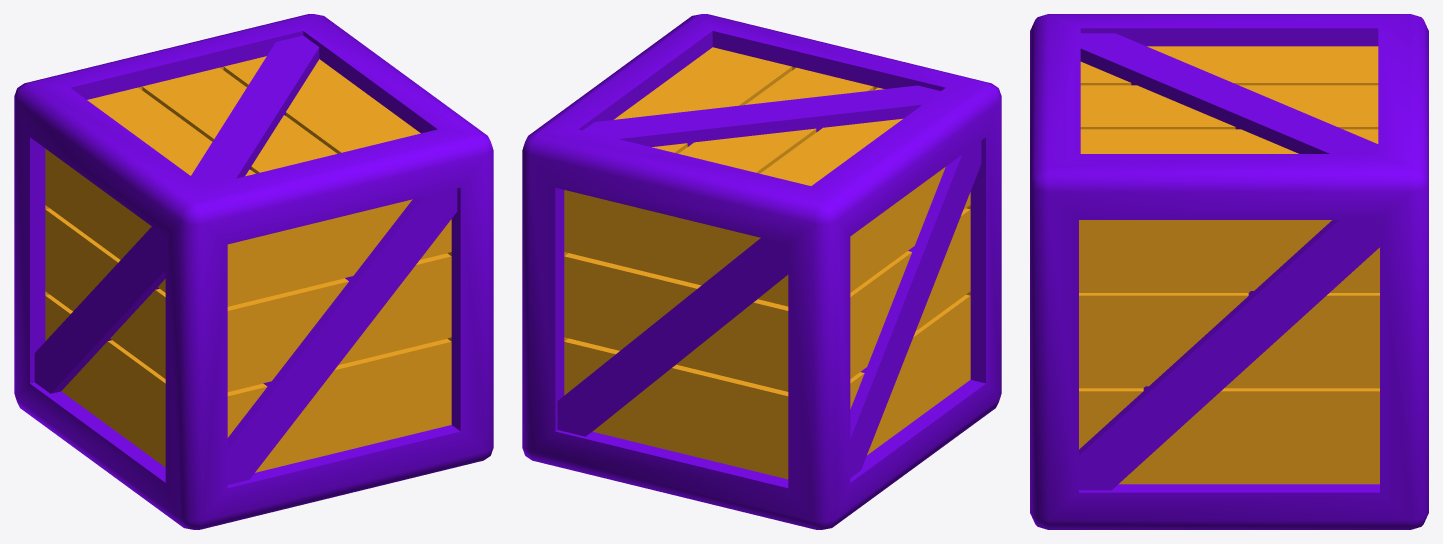
Rendered from Crate_02.fbx.
3 renders of one model, left to right at view 1: azimuth 30°, elevation 25°; view 2: azimuth 150°, elevation 25°; view 3: azimuth 270°, elevation 25°, orthographic. The views are drawn at different scales.
Parts seen in each view (by area): view 1: Obstacle_Crate_02; view 2: Obstacle_Crate_02; view 3: Obstacle_Crate_02.
Part boxes in pixels (x1=…): Obstacle_Crate_02: x1=14, y1=14, x2=493, y2=529; Obstacle_Crate_02: x1=522, y1=14, x2=1001, y2=529; Obstacle_Crate_02: x1=1030, y1=14, x2=1428, y2=529.
Size of the model in its own units: 50 by 50 by 50.
1 material, 1 textured.
